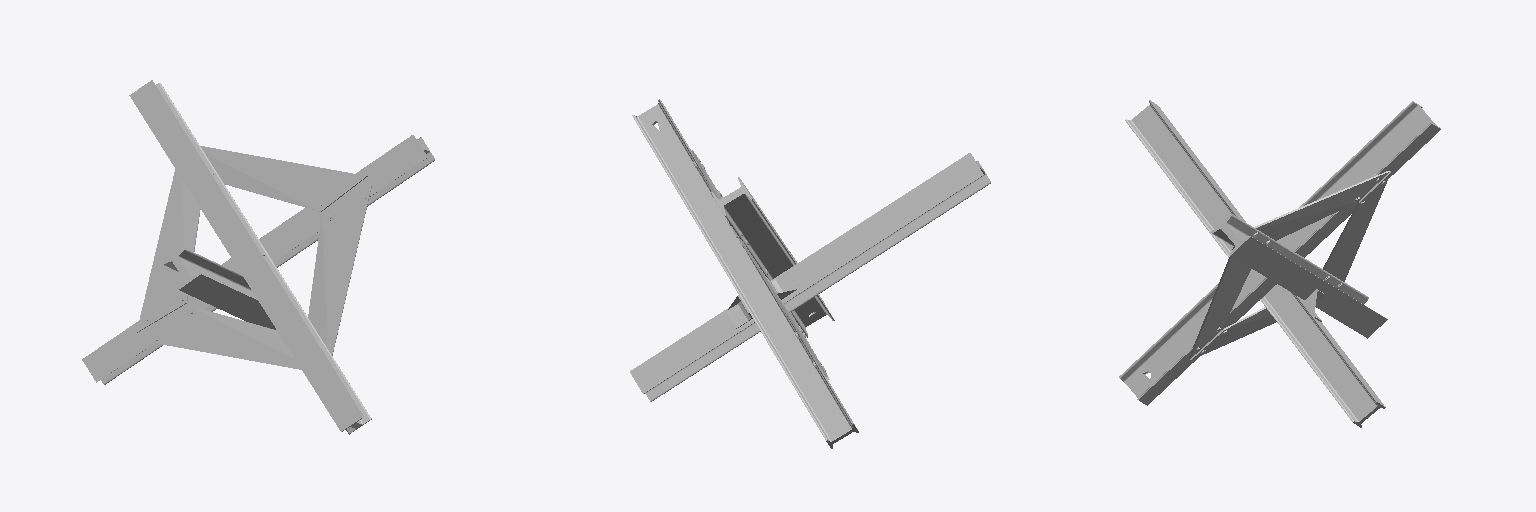
3 views of the same model, side by side, from view 1: azimuth 30°, elevation 25°; view 2: azimuth 150°, elevation 25°; view 3: azimuth 270°, elevation 25° (orthographic).
Visible parts, largest first — view 1: ej; view 2: ej; view 3: ej.
Boxes of the visible parts, x1,y1,x2,y2 form: ej: [82, 80, 434, 434]; ej: [630, 99, 990, 448]; ej: [1119, 100, 1440, 427].
Bounding box in the file's own units: 1.32 × 1.12 × 1.19.